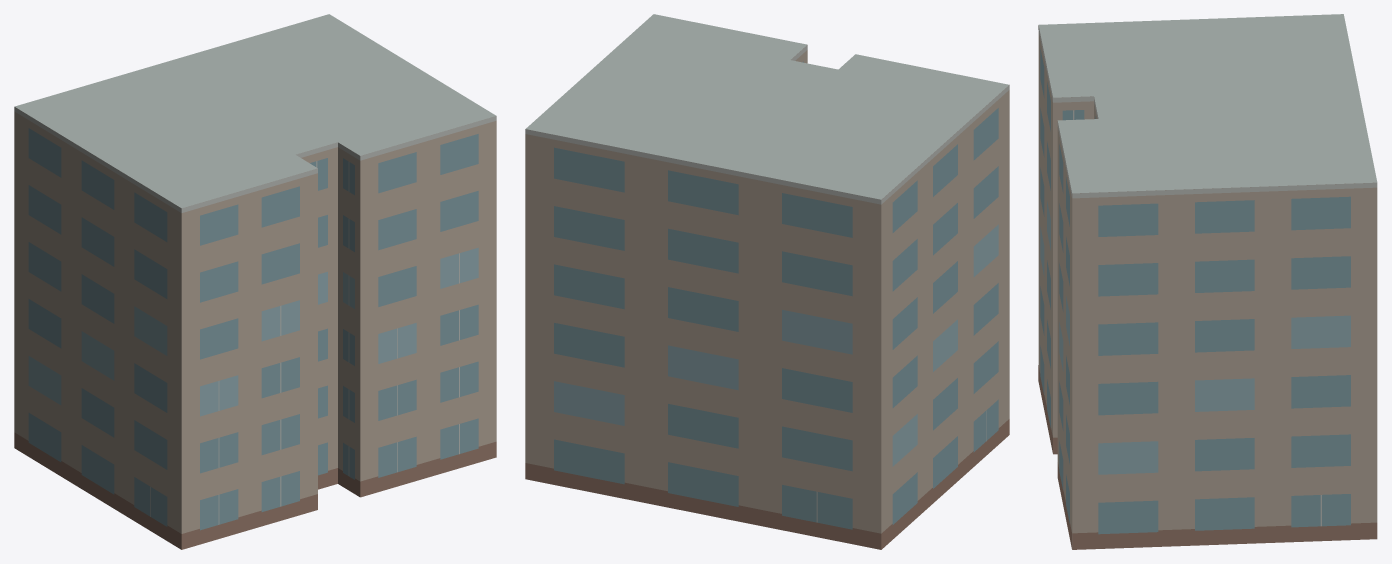
The model's file is survey-upis-32757119.glb.
The picture shows the model from 3 angles, left to right: view 1: azimuth 30°, elevation 25°; view 2: azimuth 150°, elevation 25°; view 3: azimuth 270°, elevation 25°; orthographic projection. The views are drawn at different scales.
Visible parts, largest first — view 1: survey-upis-32757119.tmp; view 2: survey-upis-32757119.tmp; view 3: survey-upis-32757119.tmp.
Boxes of the visible parts, x1,y1,x2,y2 form: survey-upis-32757119.tmp: (14,14,496,549); survey-upis-32757119.tmp: (525,14,1009,549); survey-upis-32757119.tmp: (1038,14,1377,549).
Size of the model in its own units: 18.68 by 17.3 by 14.91.
